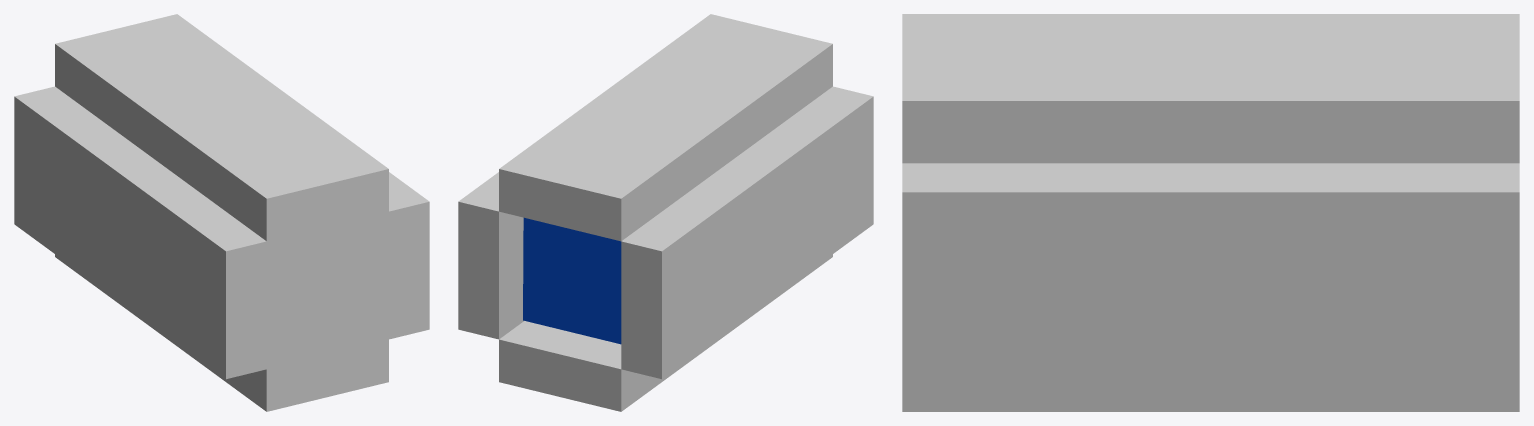
File: HighballGlass.fbx
3 renders of one model, left to right at view 1: azimuth 30°, elevation 25°; view 2: azimuth 150°, elevation 25°; view 3: azimuth 270°, elevation 25°, orthographic. The views are drawn at different scales.
Visible parts, largest first — view 1: Highball Glass; view 2: Highball Glass, Mixed; view 3: Highball Glass.
Part boxes in pixels (left/top/right/bottom): Highball Glass: left=14, top=14, right=429, bottom=411; Highball Glass: left=458, top=14, right=873, bottom=411; Mixed: left=523, top=217, right=621, bottom=344; Highball Glass: left=902, top=14, right=1519, bottom=411.
Size of the model in its own units: 52.64 by 52.64 by 94.75.
